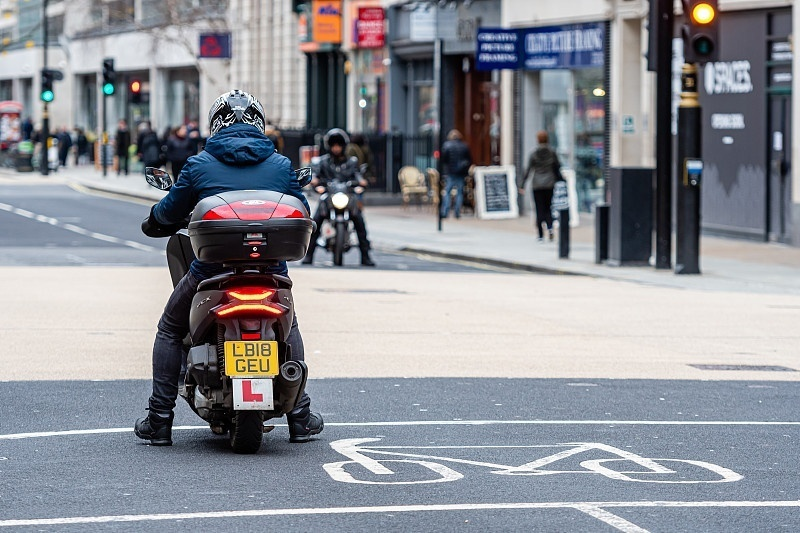non-vehicle: (175, 234, 316, 459), (311, 164, 367, 252)
